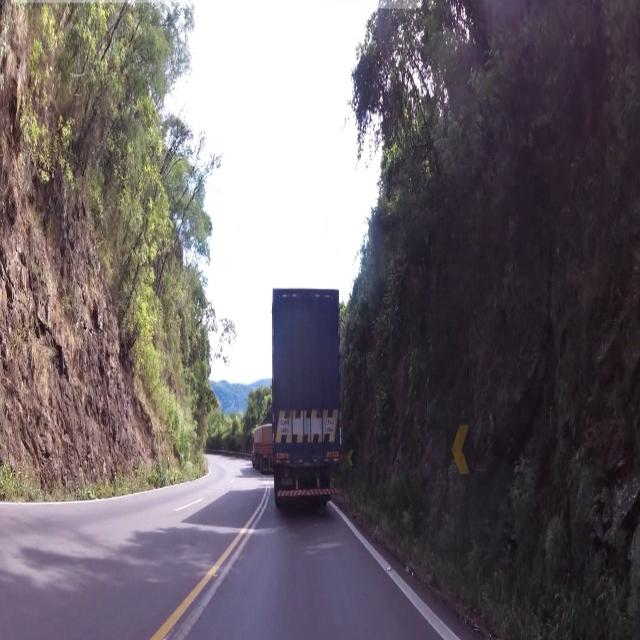Del: (448, 419, 474, 485)
